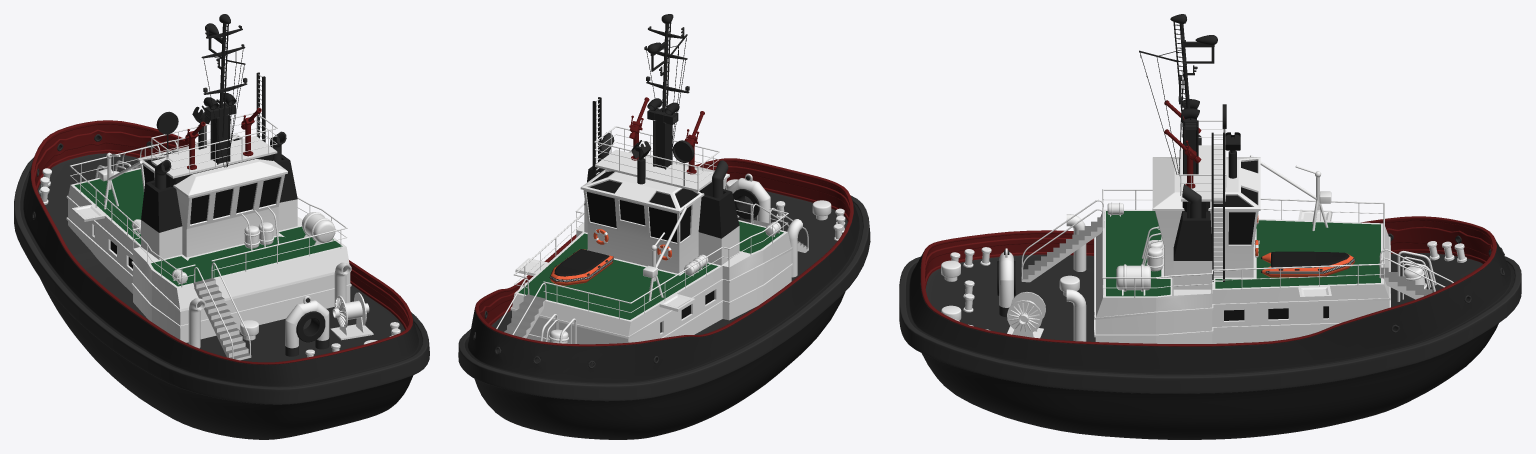
File: 障碍物5.FBX
The picture shows the model from 3 angles, left to right: view 1: azimuth 30°, elevation 25°; view 2: azimuth 150°, elevation 25°; view 3: azimuth 270°, elevation 25°; orthographic projection. The views are drawn at different scales.
Parts seen in each view (by area): view 1: Obj3d66-606301-4-290, Obj3d66-606301-3-153, Obj3d66-606301-2-261, Obj3d66-606301-1-966, Obj3d66-606301-7-905, Obj3d66-606301-13-781, Obj3d66-606301-5-532, Obj3d66-606301-15-327, Obj3d66-606301-14-667, Obj3d66-606301-9-75, Obj3d66-606301-11-459, Obj3d66-606301-8-277 (+1 smaller); view 2: Obj3d66-606301-3-153, Obj3d66-606301-4-290, Obj3d66-606301-2-261, Obj3d66-606301-7-905, Obj3d66-606301-1-966, Obj3d66-606301-5-532, Obj3d66-606301-13-781, Obj3d66-606301-9-75, Obj3d66-606301-12-354, Obj3d66-606301-11-459, Obj3d66-606301-8-277, Obj3d66-606301-14-667 (+1 smaller); view 3: Obj3d66-606301-3-153, Obj3d66-606301-4-290, Obj3d66-606301-2-261, Obj3d66-606301-7-905, Obj3d66-606301-1-966, Obj3d66-606301-5-532, Obj3d66-606301-9-75, Obj3d66-606301-13-781, Obj3d66-606301-12-354, Obj3d66-606301-15-327, Obj3d66-606301-14-667, Obj3d66-606301-16-36 (+3 smaller).
Boxes of the visible parts, x1,y1,x2,y2 form: Obj3d66-606301-4-290: [66, 74, 351, 360]; Obj3d66-606301-3-153: [20, 49, 422, 439]; Obj3d66-606301-2-261: [14, 25, 429, 404]; Obj3d66-606301-1-966: [30, 120, 412, 364]; Obj3d66-606301-7-905: [74, 169, 342, 286]; Obj3d66-606301-13-781: [201, 23, 247, 164]; Obj3d66-606301-5-532: [94, 138, 280, 268]; Obj3d66-606301-15-327: [330, 292, 373, 340]; Obj3d66-606301-14-667: [188, 262, 351, 348]; Obj3d66-606301-9-75: [156, 14, 230, 157]; Obj3d66-606301-11-459: [185, 108, 261, 169]; Obj3d66-606301-8-277: [155, 109, 286, 189]; Obj3d66-606301-3-153: [465, 36, 862, 439]; Obj3d66-606301-4-290: [496, 99, 808, 344]; Obj3d66-606301-2-261: [458, 26, 870, 401]; Obj3d66-606301-7-905: [518, 221, 783, 319]; Obj3d66-606301-1-966: [475, 158, 853, 346]; Obj3d66-606301-5-532: [586, 171, 714, 332]; Obj3d66-606301-13-781: [644, 22, 689, 169]; Obj3d66-606301-9-75: [550, 14, 694, 285]; Obj3d66-606301-12-354: [549, 229, 671, 282]; Obj3d66-606301-11-459: [593, 97, 704, 260]; Obj3d66-606301-8-277: [601, 115, 728, 198]; Obj3d66-606301-14-667: [787, 219, 802, 277]; Obj3d66-606301-3-153: [906, 49, 1514, 439]; Obj3d66-606301-4-290: [997, 120, 1453, 343]; Obj3d66-606301-2-261: [899, 14, 1521, 393]; Obj3d66-606301-7-905: [1106, 211, 1380, 296]; Obj3d66-606301-1-966: [920, 216, 1496, 346]; Obj3d66-606301-5-532: [1213, 160, 1328, 320]; Obj3d66-606301-9-75: [1170, 14, 1354, 277]; Obj3d66-606301-13-781: [1139, 21, 1214, 174]; Obj3d66-606301-12-354: [1255, 212, 1355, 273]; Obj3d66-606301-15-327: [1007, 292, 1045, 338]; Obj3d66-606301-14-667: [1066, 214, 1086, 341]; Obj3d66-606301-16-36: [950, 241, 1466, 330].
Size of the model in its own units: 1192 by 1694 by 2475.
